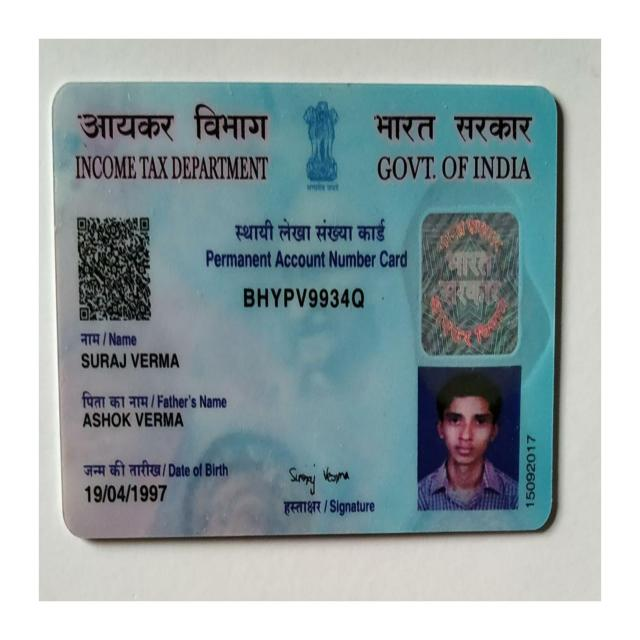pan_card: (63, 94, 546, 544)
